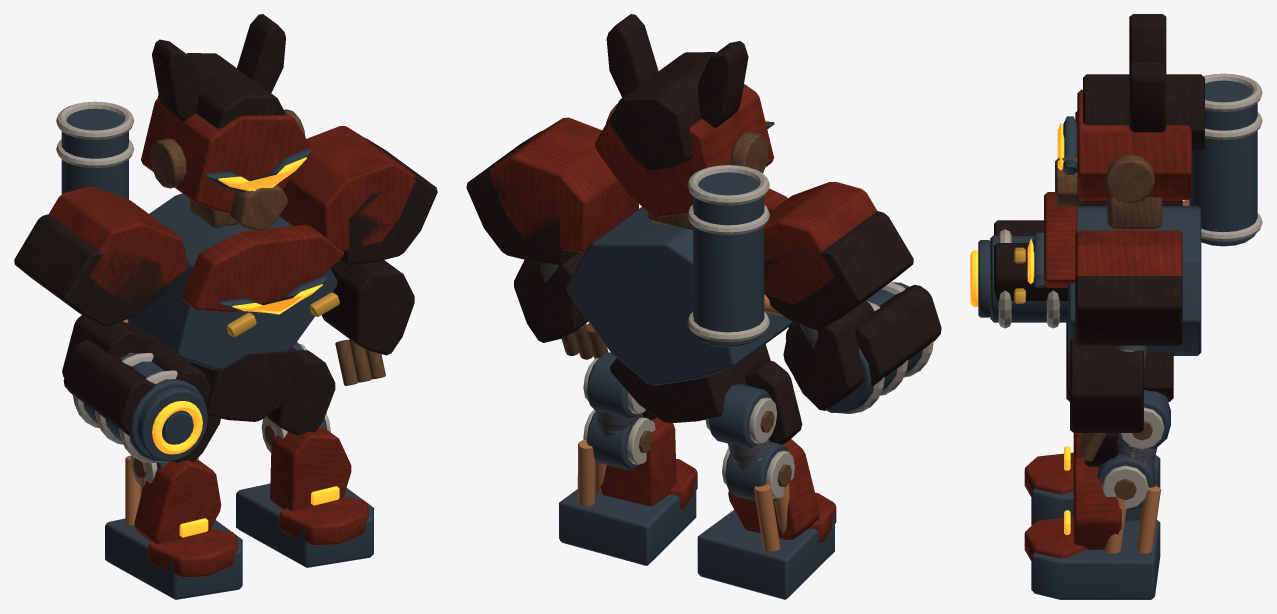
The model's file is scorch_scout.glb.
The picture shows the model from 3 angles, left to right: view 1: azimuth 30°, elevation 25°; view 2: azimuth 150°, elevation 25°; view 3: azimuth 270°, elevation 25°; orthographic projection. The views are drawn at different scales.
Parts seen in each view (by area): view 1: Navy crown, Cuirass yoke, Angular scout torso, Greave armor, Greave armor.001, Neck actuator, Servo housing.004, Servo housing.001, Bearing ring, Recessed V optic, Tapered thigh shield.001, Enamel heat marker (+1 smaller); view 2: Navy crown, Angular scout torso, Cuirass yoke, Servo housing.001, Servo housing.004, Bearing ring, Greave armor.001, Greave armor, Neck actuator, Tapered thigh shield, Bearing ring.002, Calf piston (+4 smaller); view 3: Navy crown, Angular scout torso, Cuirass yoke, Servo housing.004, Neck actuator, Greave armor.001, Bearing ring, Greave armor, Bearing ring.008, Calf piston.002, Servo housing.001, Recessed V optic (+3 smaller).
Boxes of the visible parts, x1,y1,x2,y2 form: Navy crown: (14, 14, 437, 435); Cuirass yoke: (49, 97, 415, 312); Angular scout torso: (61, 108, 337, 461); Greave armor: (134, 459, 237, 577); Greave armor.001: (270, 428, 368, 545); Neck actuator: (150, 109, 385, 385); Servo housing.004: (236, 342, 373, 567); Servo housing.001: (105, 461, 242, 599); Bearing ring: (56, 101, 177, 463); Recessed V optic: (152, 157, 322, 454); Tapered thigh shield.001: (267, 350, 335, 435); Enamel heat marker: (226, 292, 339, 337); Navy crown: (466, 14, 941, 423); Angular scout torso: (566, 121, 922, 413); Cuirass yoke: (489, 84, 876, 304); Servo housing.001: (697, 384, 834, 599); Servo housing.004: (559, 352, 696, 565); Bearing ring: (687, 165, 933, 413); Greave armor.001: (600, 417, 697, 509); Greave armor: (728, 439, 836, 543); Neck actuator: (561, 103, 768, 359); Tapered thigh shield: (745, 360, 802, 444); Bearing ring.002: (705, 397, 794, 498); Calf piston: (754, 483, 789, 551); Navy crown: (994, 14, 1204, 432); Angular scout torso: (978, 80, 1257, 355); Cuirass yoke: (1044, 89, 1191, 287); Servo housing.004: (1031, 390, 1170, 599); Neck actuator: (1055, 154, 1162, 461); Greave armor.001: (1024, 457, 1121, 560); Bearing ring: (998, 73, 1262, 328); Greave armor: (1024, 433, 1118, 496); Bearing ring.008: (1102, 407, 1164, 508); Calf piston.002: (1105, 485, 1160, 553); Servo housing.001: (1031, 455, 1160, 525); Recessed V optic: (970, 122, 1064, 307).
Size of the model in its own units: 1.17 by 1.52 by 0.7898.
Materials: 9 (4 with a texture image).
